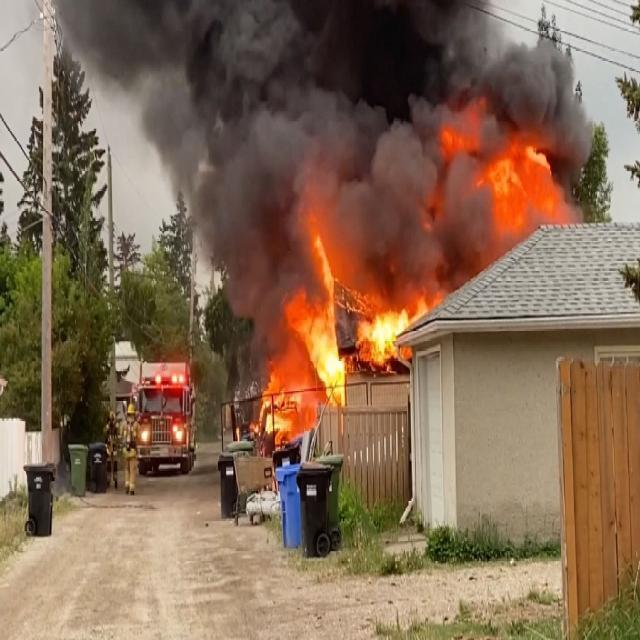Fire: (288, 228, 348, 404), (478, 137, 568, 249), (350, 294, 418, 368), (254, 361, 298, 444)
Smoke: (152, 0, 446, 274), (496, 35, 600, 162)
